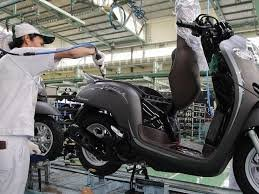motor: (81, 26, 258, 178)
